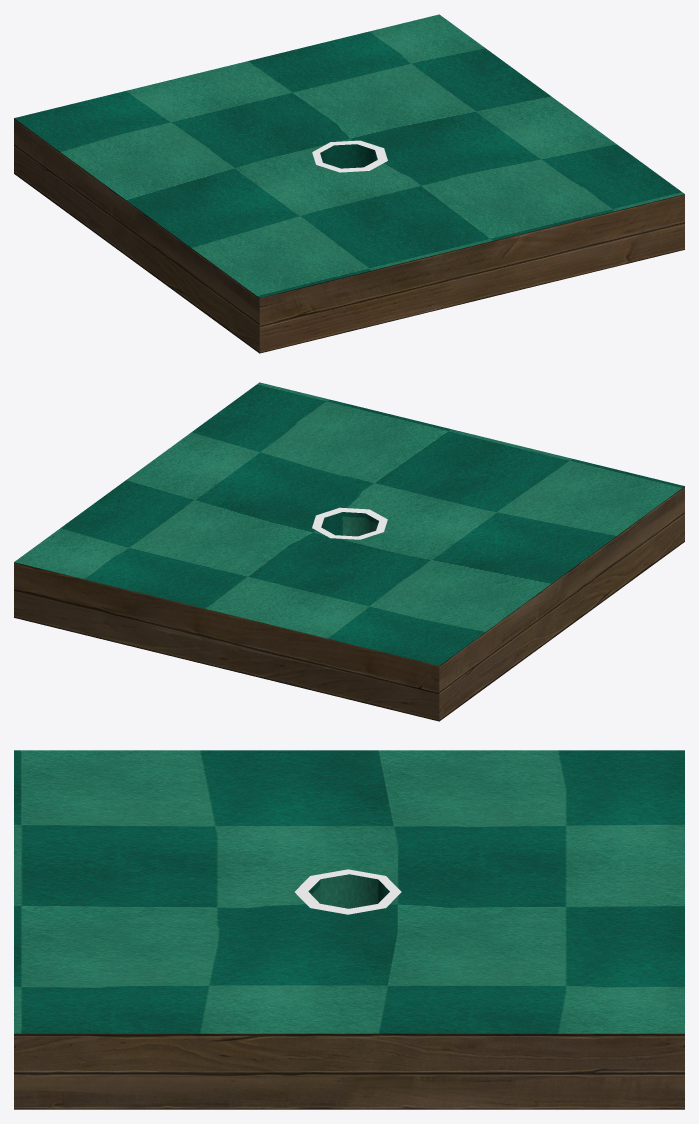
File: End4.gltf
3 views of the same model, one above another, from view 1: azimuth 30°, elevation 25°; view 2: azimuth 150°, elevation 25°; view 3: azimuth 270°, elevation 25° (orthographic). The views are drawn at different scales.
Parts seen in each view (by area): view 1: End4_hole_grass_glb, End4_wood_0000_glb; view 2: End4_hole_grass_glb, End4_wood_0000_glb; view 3: End4_hole_grass_glb, End4_wood_0000_glb.
Boxes of the visible parts, left/top/right/bottom form: End4_hole_grass_glb: left=14, top=14, right=684, bottom=297; End4_wood_0000_glb: left=14, top=118, right=684, bottom=353; End4_hole_grass_glb: left=14, top=382, right=684, bottom=665; End4_wood_0000_glb: left=14, top=486, right=684, bottom=721; End4_hole_grass_glb: left=14, top=750, right=684, bottom=1033; End4_wood_0000_glb: left=14, top=1033, right=684, bottom=1109.
Size of what is drawn, in the model's own units: 4 by 0.5 by 4.
Materials: 3 (2 with a texture image).
